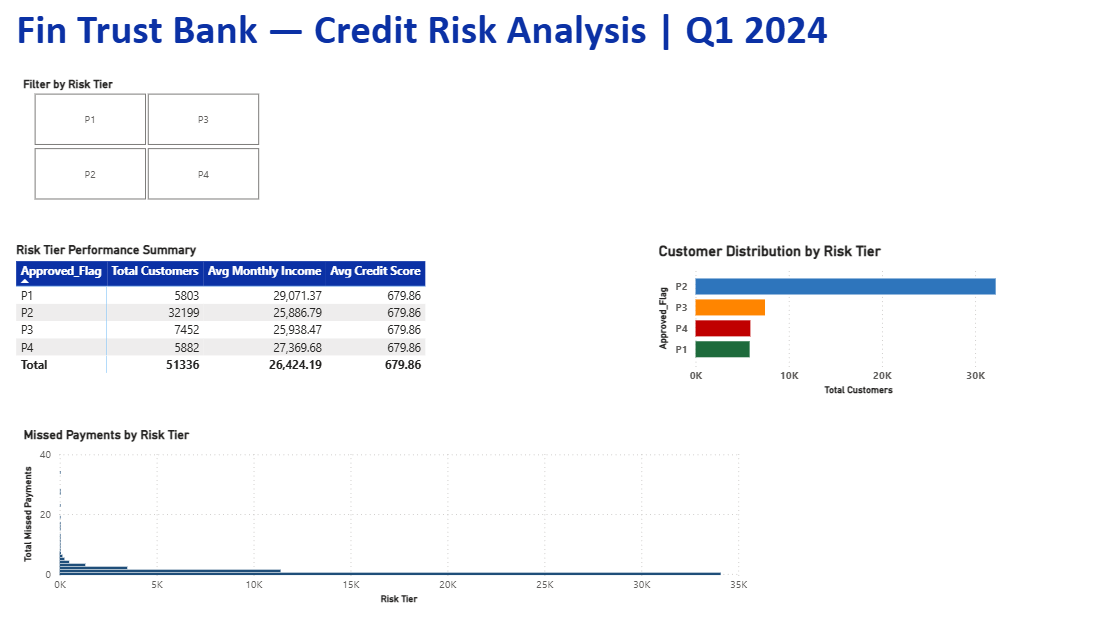

The page's visual inventory and layout, read from the dashboard file:
{"tool":"powerbi","page":{"name":"Credit Risk","canvas":[1280,720],"ordinal":1},"visuals":[{"type":"clusteredBarChart","title":"  Days Past Due (DPD) Analysis","fields":{"Category":["fintrust_db external_cibil_data.num_times_60p_dpd"],"Y":["fintrust_db external_cibil_data.Total Customers"]},"box":[665.2,281.3,587,195.7],"z":0},{"type":"pivotTable","title":"Risk Tier Performance Summary","fields":{"Rows":["fintrust_db external_cibil_data.Approved_Flag"],"Values":["Sum(fintrust_db external_cibil_data.Avg Credit Score)","fintrust_db external_cibil_data.Total Customers","fintrust_db external_cibil_data.Avg Monthly Income"]},"box":[17.1,281.3,544.2,195.7],"z":1000},{"type":"clusteredBarChart","title":" Missed Payments by Risk Tier","fields":{"Y":["CountNonNull(fintrust_db external_cibil_data.Approved_Flag)"],"Category":["fintrust_db internal_bank_data.Tot_Missed_Pmnt"]},"box":[25.7,495.2,848.6,210.3],"z":2000},{"type":"slicer","fields":{"Values":["fintrust_db external_cibil_data.Approved_Flag"]},"box":[17.1,85.6,310.6,152.9],"z":3000},{"type":"textbox","box":[17.1,0,1059,72.1],"z":4000}]}

Visuals, with their boxes in screenshot pixels (x1, y1, x2, y2), scaled from the page's 1280x720 canvas onto the 1100x617 screenshot:
"  Days Past Due (DPD) Analysis" clusteredBarChart: 572:241:1076:409
"Risk Tier Performance Summary" pivotTable: 15:241:482:409
" Missed Payments by Risk Tier" clusteredBarChart: 22:424:751:605
slicer - fintrust_db external_cibil_data.Approved_Flag: 15:73:282:204
textbox: 15:0:925:62
